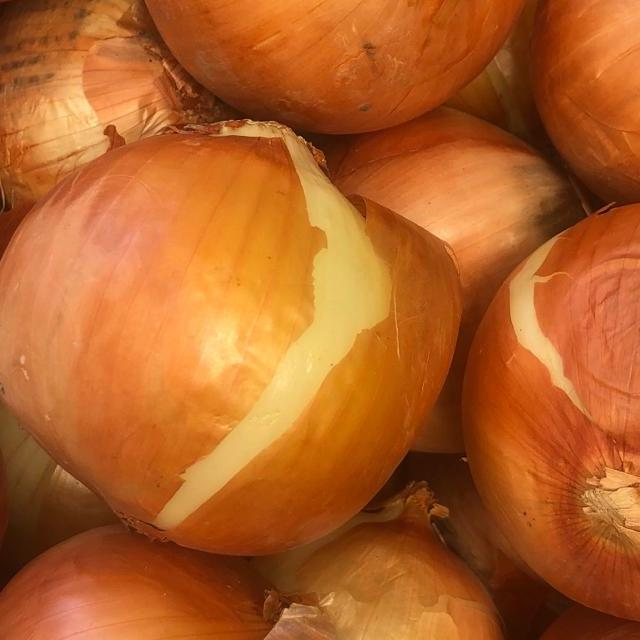onion: (0, 77, 475, 590), (450, 140, 640, 640), (117, 0, 577, 140), (0, 500, 437, 640)
